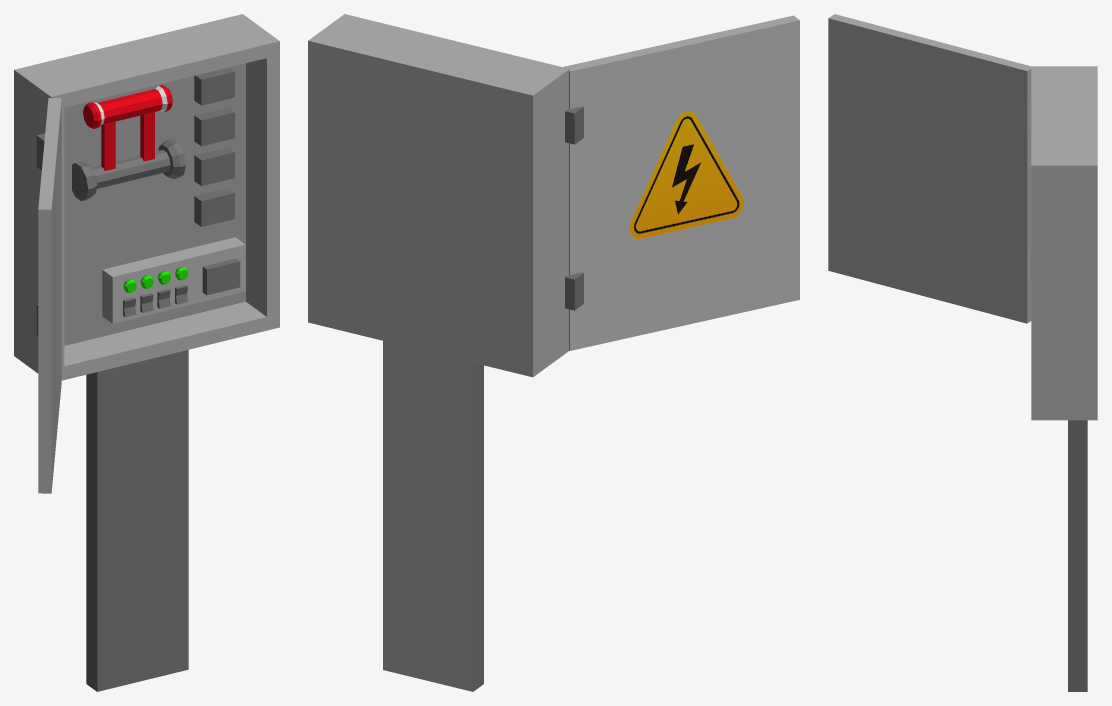
The model's file is ElectricalPanel.fbx.
3 views of the same model, side by side, from view 1: azimuth 30°, elevation 25°; view 2: azimuth 150°, elevation 25°; view 3: azimuth 270°, elevation 25° (orthographic). The views are drawn at different scales.
Parts seen in each view (by area): view 1: Cube.8545, Cube.8544, Cylinder.1436, Cylinder.1437; view 2: Cube.8545, Cube.8544; view 3: Cube.8544, Cube.8545.
Part boxes in pixels (left/top/right/bottom): Cube.8545: left=14, top=14, right=279, bottom=691; Cube.8544: left=38, top=98, right=61, bottom=493; Cylinder.1436: left=83, top=84, right=172, bottom=170; Cylinder.1437: left=123, top=267, right=188, bottom=292; Cube.8545: left=308, top=14, right=583, bottom=691; Cube.8544: left=564, top=15, right=799, bottom=350; Cube.8544: left=828, top=14, right=1031, bottom=323; Cube.8545: left=1031, top=66, right=1097, bottom=691.
Size of the model in its own units: 102 by 173 by 75.59.
Materials: 7 (1 with a texture image).
